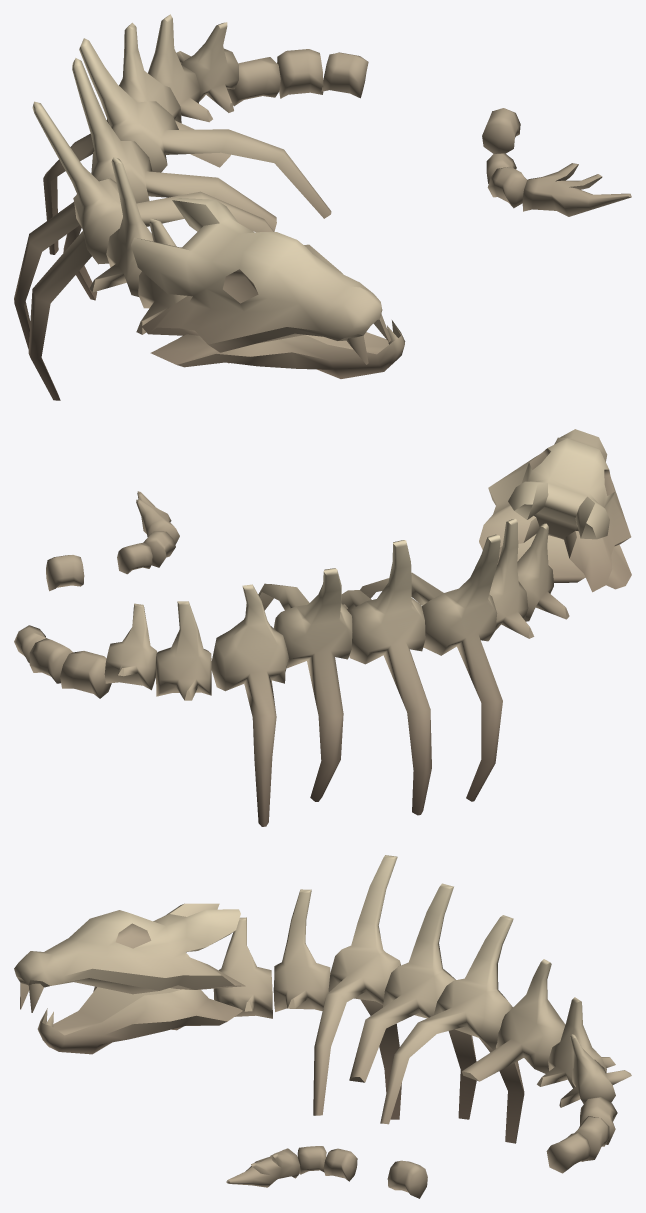
Rendered from SM_DE_Skeleton.fbx.
The picture shows the model from 3 angles, top to bottom: view 1: azimuth 30°, elevation 25°; view 2: azimuth 150°, elevation 25°; view 3: azimuth 270°, elevation 25°; orthographic projection. The views are drawn at different scales.
Visible parts, largest first — view 1: Skeleton1; view 2: Skeleton1; view 3: Skeleton1.
Boxes of the visible parts, x1,y1,x2,y2 form: Skeleton1: [14, 14, 631, 400]; Skeleton1: [14, 429, 631, 826]; Skeleton1: [14, 855, 631, 1198].
Size of the model in its own units: 4.51 by 2.53 by 5.52.
